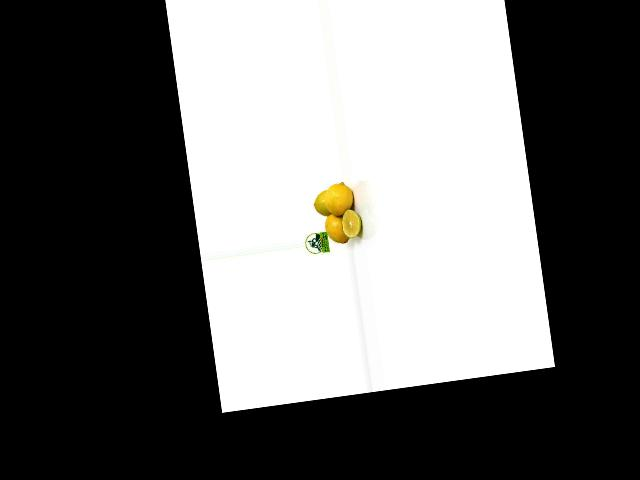lemon: (322, 177, 357, 216)
